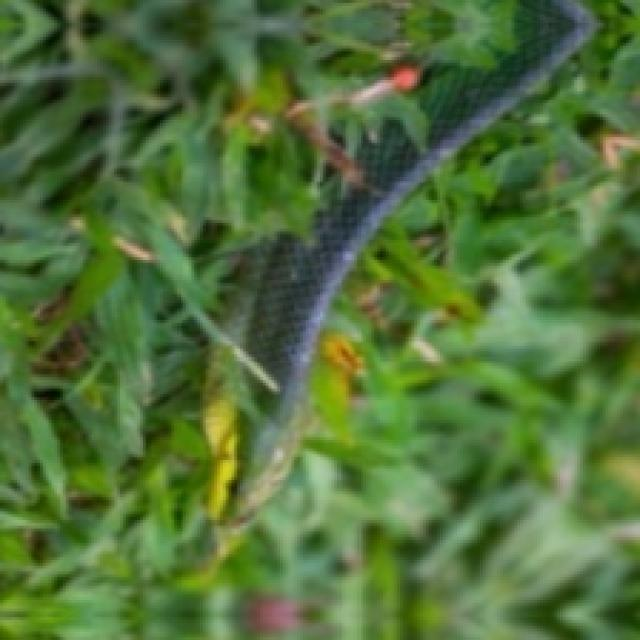red-tailed green ratsnake: (201, 0, 595, 558)
